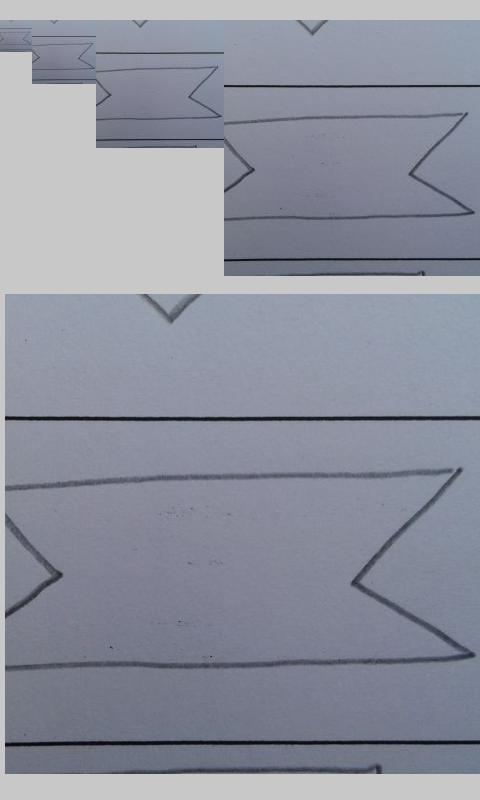edit_text: (2, 466, 475, 675), (224, 112, 476, 222), (97, 65, 222, 122), (33, 42, 95, 71), (1, 31, 31, 46)
